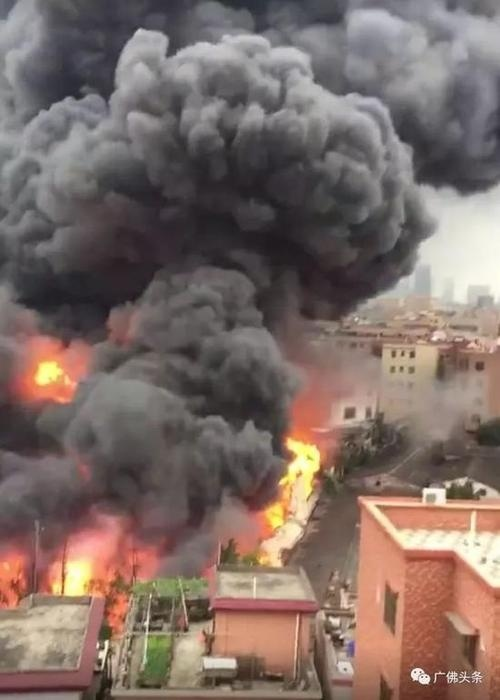fire: (261, 434, 321, 534), (46, 554, 94, 597), (30, 355, 73, 393)
